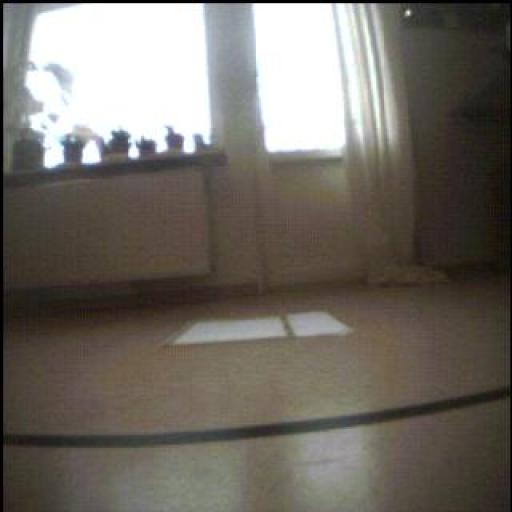Pad: (169, 311, 352, 345)
